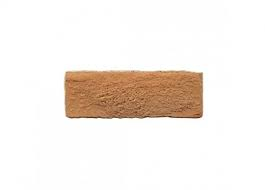brick: (65, 71, 203, 118)
